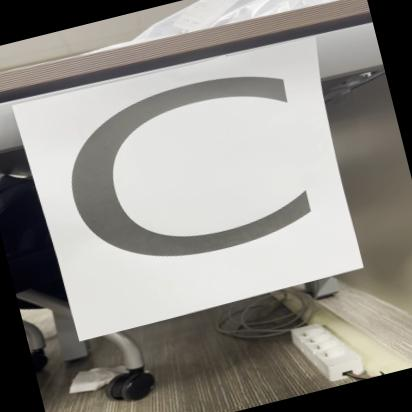seat: (25, 37, 356, 340)
